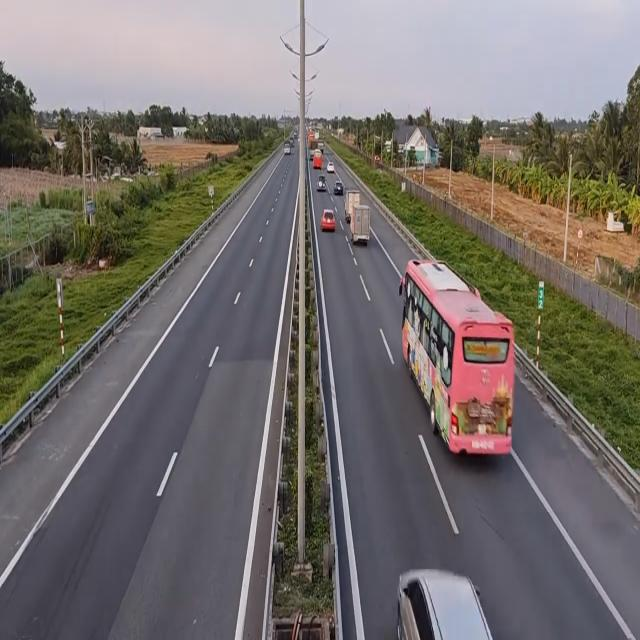bus: (401, 261, 515, 464)
car: (396, 564, 506, 638), (321, 207, 336, 232), (316, 172, 327, 192), (336, 179, 345, 194), (326, 162, 334, 178)
truck: (350, 203, 371, 249), (344, 190, 360, 223)
